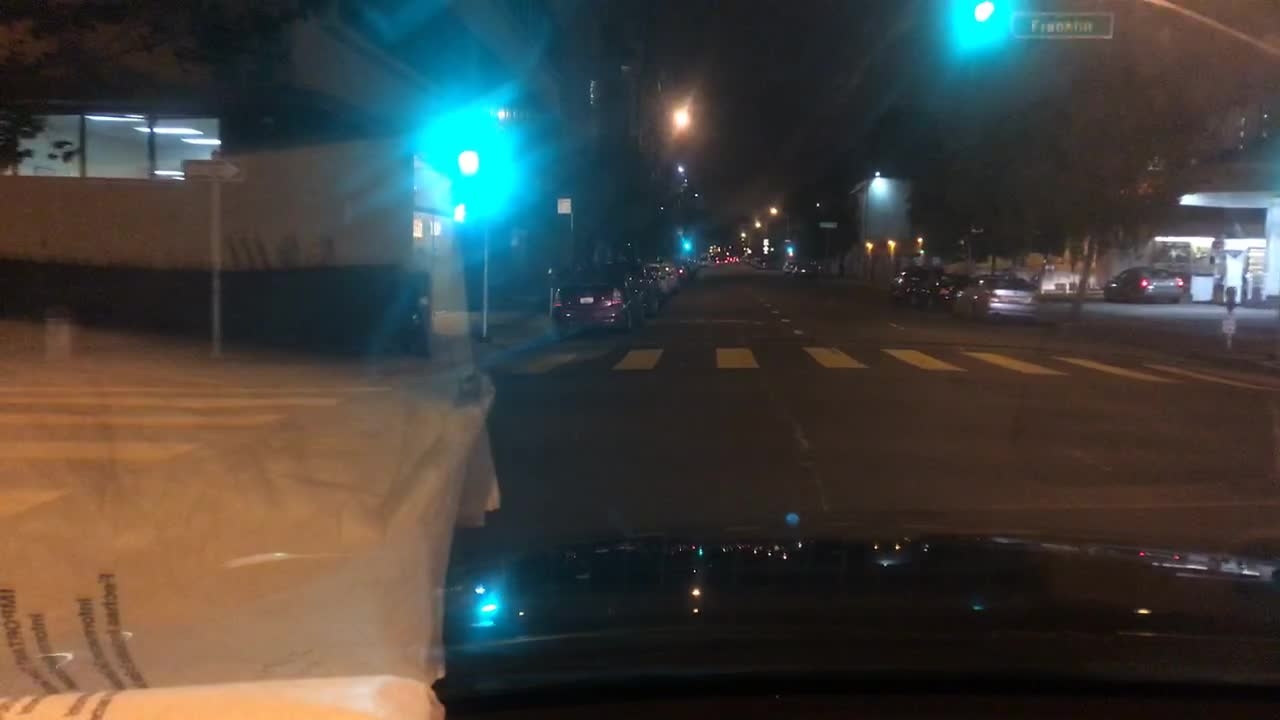car: (554, 270, 633, 336), (952, 270, 1038, 321), (595, 260, 664, 310), (1105, 266, 1183, 303), (889, 263, 932, 309), (927, 272, 970, 309), (643, 258, 681, 292), (794, 263, 825, 280), (681, 254, 695, 277), (713, 252, 736, 266), (779, 260, 799, 273)
traffic light: (963, 0, 999, 31), (454, 140, 483, 178), (680, 235, 692, 247), (786, 241, 797, 254)
traffic sign: (1012, 14, 1113, 37), (177, 157, 238, 179), (1221, 315, 1233, 336), (557, 195, 568, 214), (816, 221, 837, 229)
